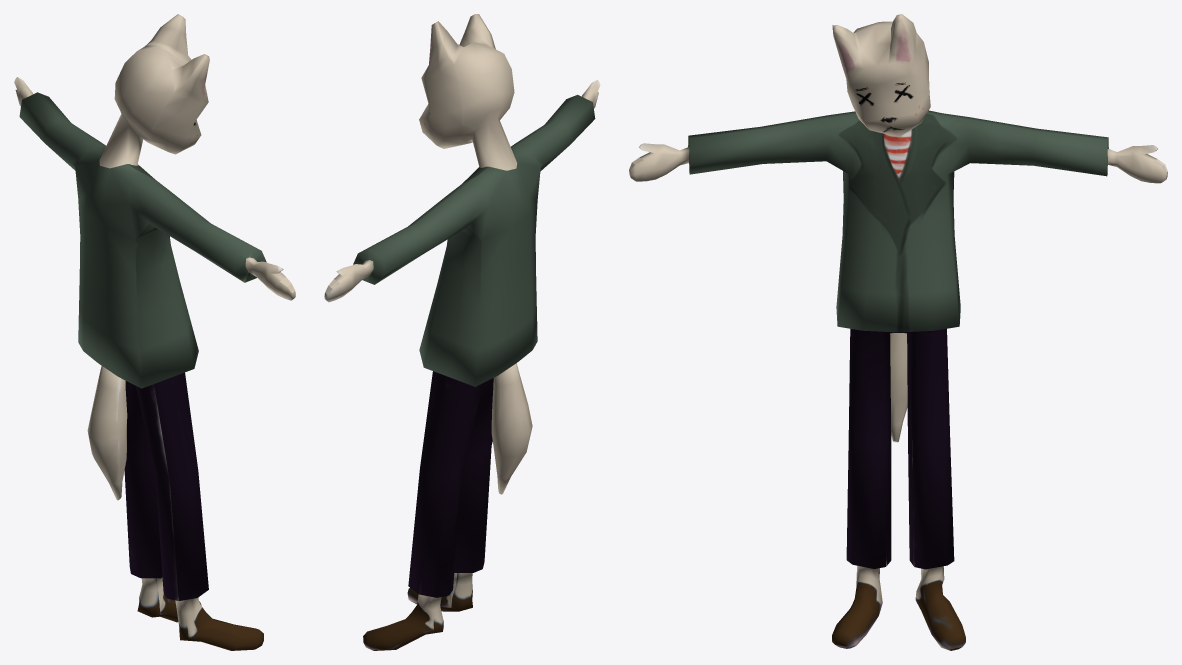
Rendered from friend_pose.fbx.
3 renders of one model, left to right at view 1: azimuth 30°, elevation 25°; view 2: azimuth 150°, elevation 25°; view 3: azimuth 270°, elevation 25°, orthographic. The views are drawn at different scales.
Visible parts, largest first — view 1: friend; view 2: friend; view 3: friend.
Boxes of the visible parts, <box> form: friend: <box>14,14,295,650</box>; friend: <box>324,14,600,650</box>; friend: <box>629,14,1167,650</box>.
Size of the model in its own units: 46.83 by 190 by 150.
Materials: 1 (1 with a texture image).
